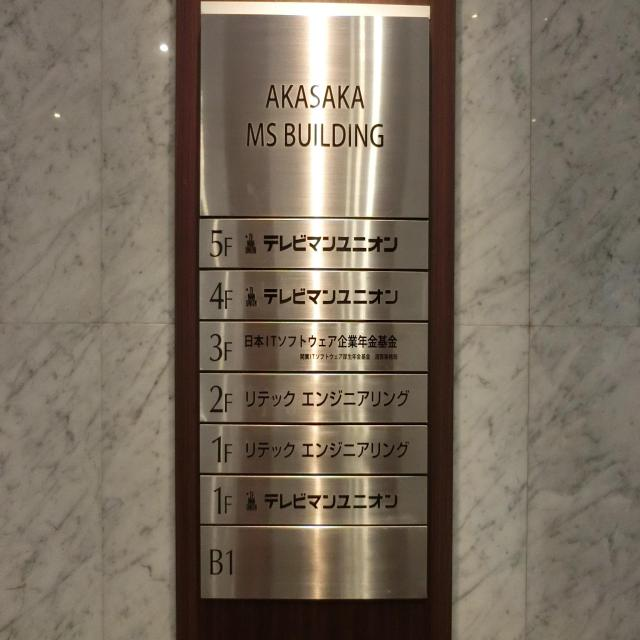building: (231, 70, 396, 159)
facility: (243, 330, 406, 363), (243, 383, 411, 414), (243, 436, 414, 464), (260, 229, 403, 258), (262, 488, 401, 515), (260, 283, 402, 308)
floor: (207, 542, 240, 582), (206, 225, 237, 263), (206, 329, 237, 367), (206, 278, 236, 316), (207, 380, 236, 418), (208, 431, 238, 467), (210, 484, 238, 518)
